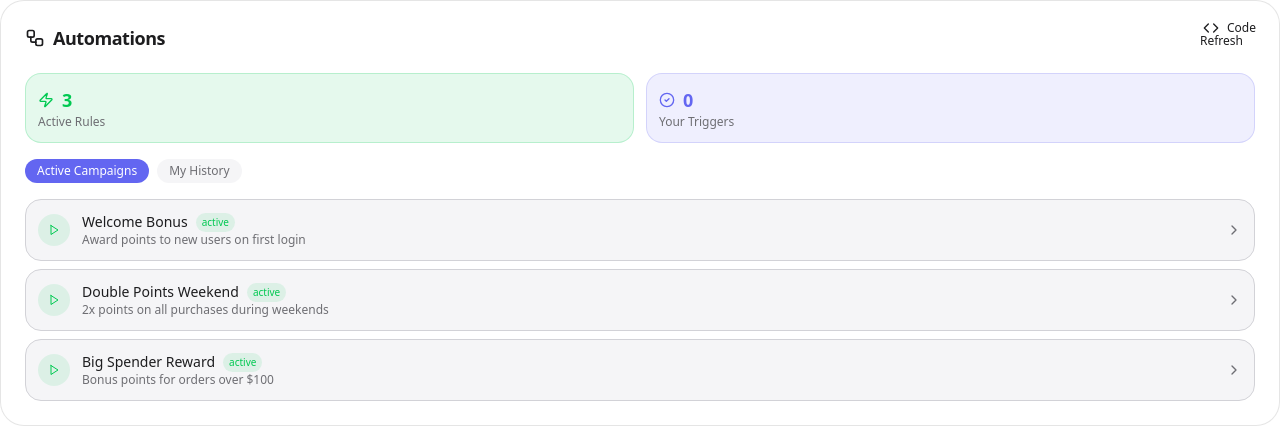
Scenario: DemoCampaigns › shows empty history for new user
Note: Click My History tab
Click the button "My History".
click(199, 171)  # box x1=157 y1=159 x2=242 y2=183
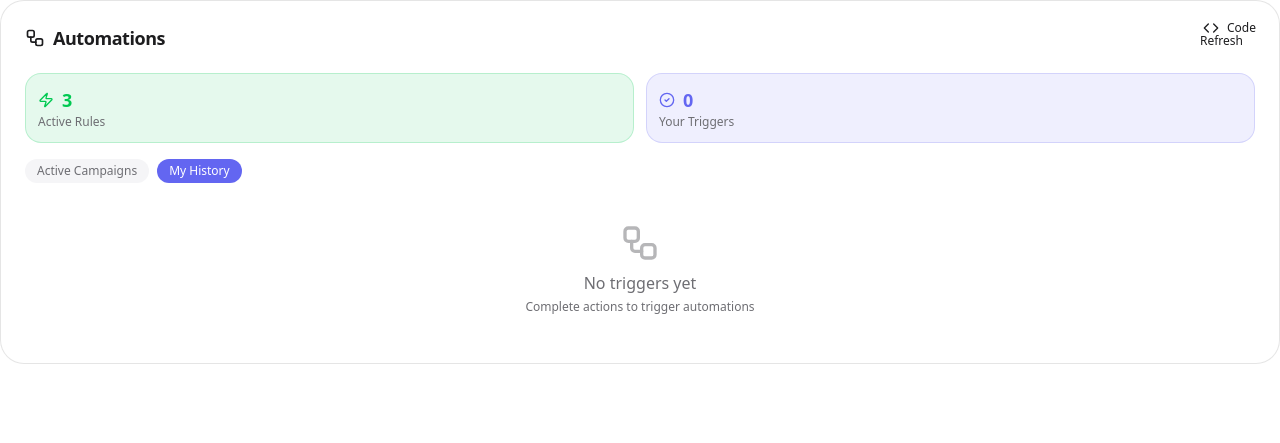
Check: the text "No triggers yet" is shown, box x1=584 y1=272 x2=696 y2=294
